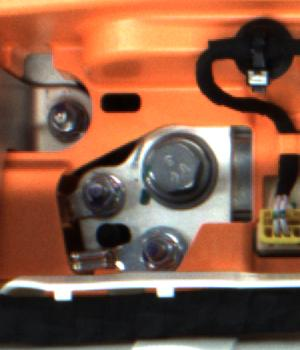nut_b: (141, 132, 220, 203)
screw_s: (138, 231, 185, 276), (44, 96, 86, 140), (78, 169, 121, 210)
